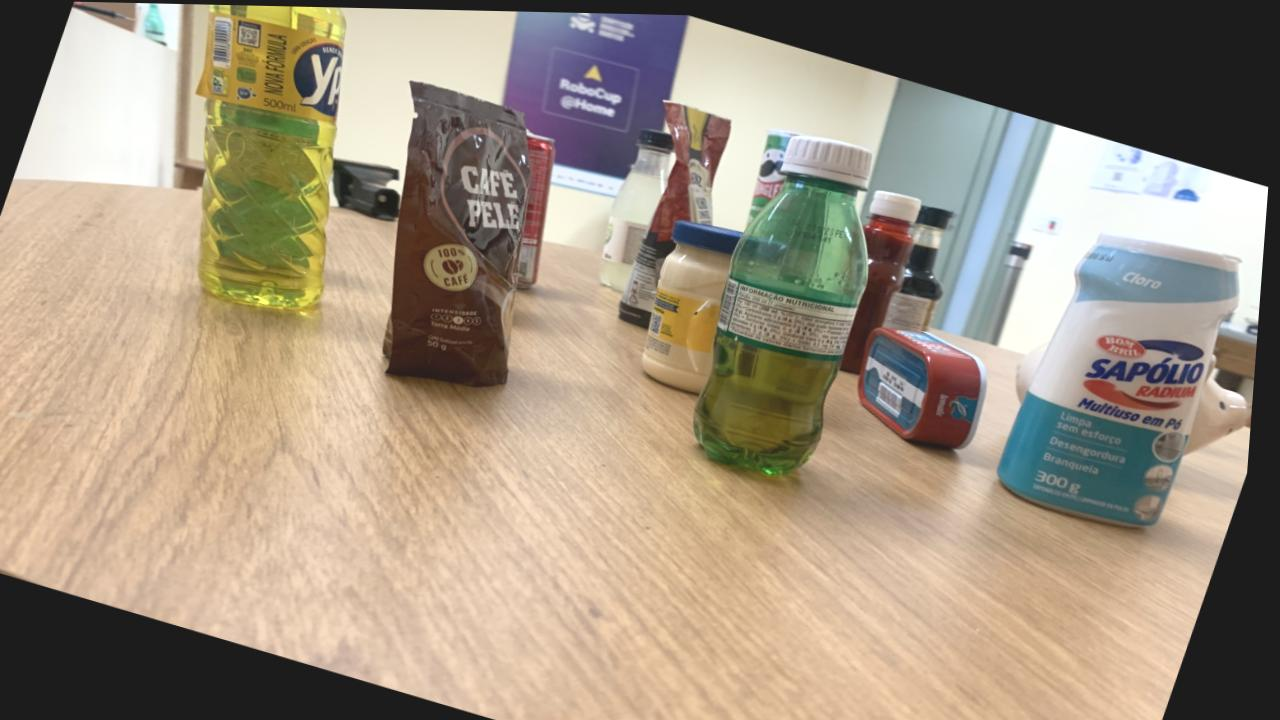Cleaner-Cleanup_Items: (1004, 228, 1243, 522)
Coffee-Pantry_Items: (388, 80, 533, 384)
Coke-Drinks: (521, 130, 558, 286)
Detergent-Cleanup_Items: (198, 4, 347, 308)
English_Sauce-Pantry_Items: (888, 202, 958, 327)
Guarana-Drinks: (700, 132, 874, 472)
Ketchup-Pantry_Items: (846, 186, 924, 369), (846, 186, 924, 369)
Mayonnaise-Pantry_Items: (647, 217, 746, 390)
Pig_Safe-Miscellaneous: (1191, 371, 1258, 448), (1020, 339, 1053, 397)
Pringles-Snacks: (750, 126, 797, 220)
Soda-Drinks: (603, 127, 675, 288)
Tomato_Sauce-Pantry_Items: (623, 97, 734, 324)
Tuna_Can-Pantry_Items: (863, 323, 993, 445)
